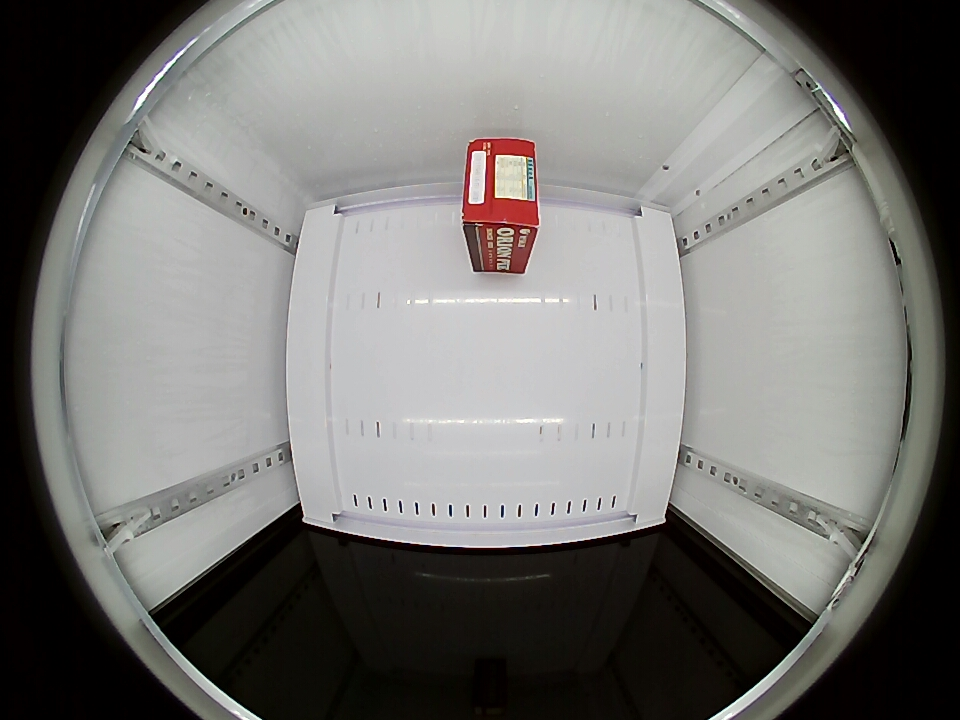haoliyou: (462, 137, 540, 262)
